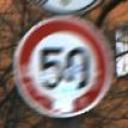speed_limit_50: (11, 11, 116, 117)
